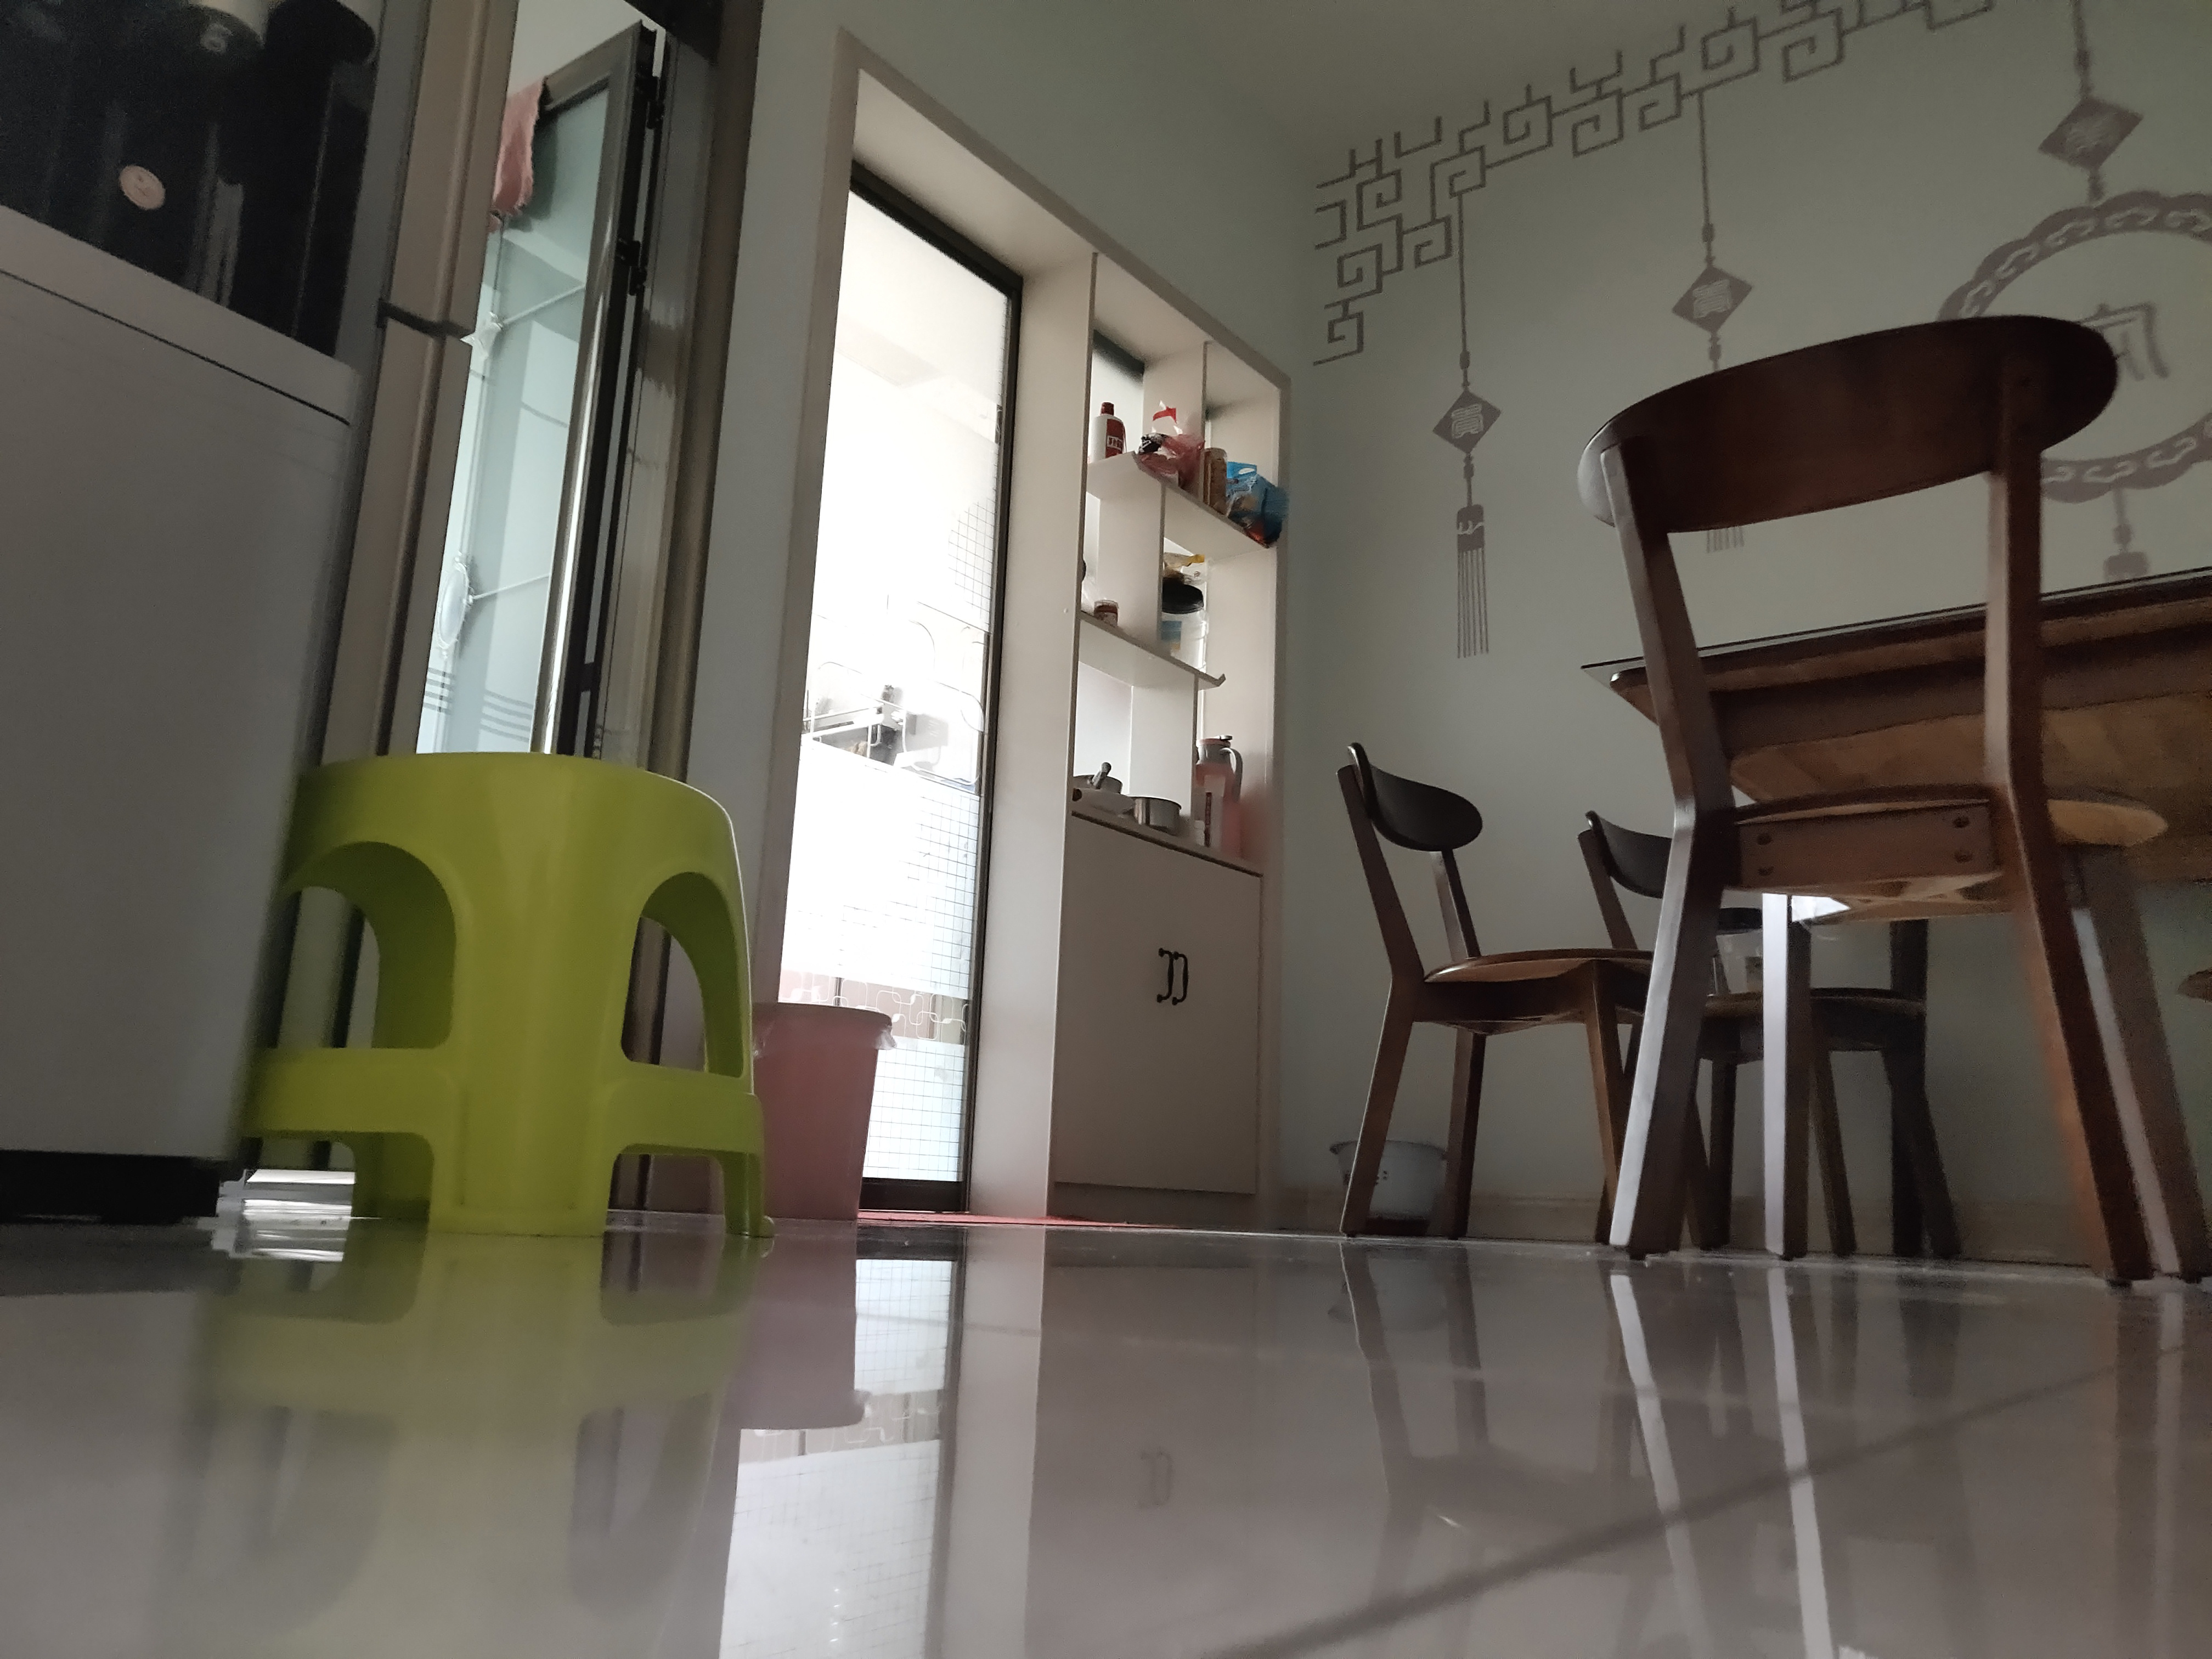cabinet: (965, 809, 1291, 1234)
carpet: (853, 1206, 1176, 1230)
stool: (1569, 308, 2212, 1295), (239, 746, 782, 1244), (1332, 739, 1710, 1248), (1575, 795, 1973, 1267)
table: (1571, 556, 2212, 1276)
trashcan: (740, 999, 894, 1229)
